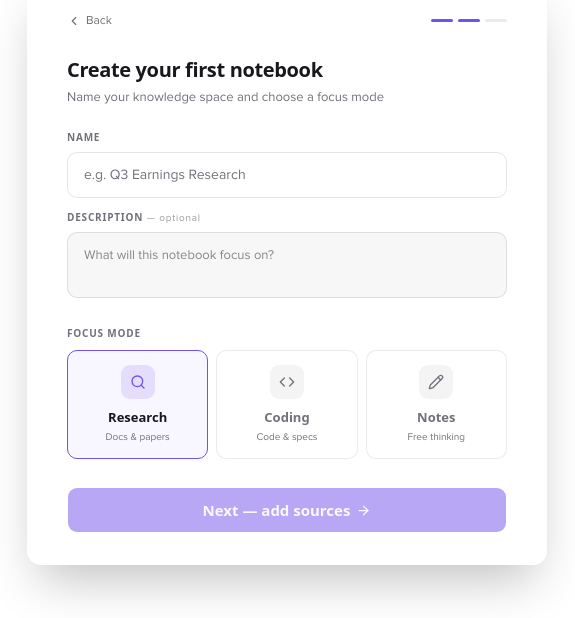
Test: CreateNotebook — Next button gate › Next is enabled after typing a name
In the field named "Notebook name": point(287, 175) x1=67 y1=152 x2=507 y2=198, type "Q3 Earnings"
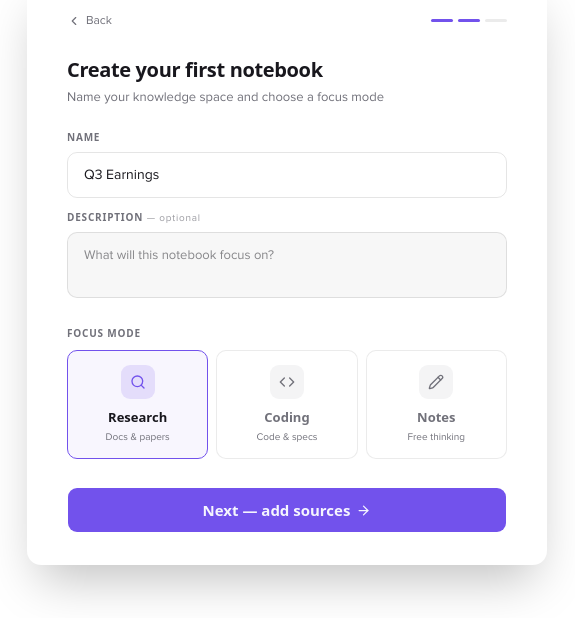
Check: the button "Next — add sources" is enabled, box x1=67 y1=487 x2=507 y2=533
